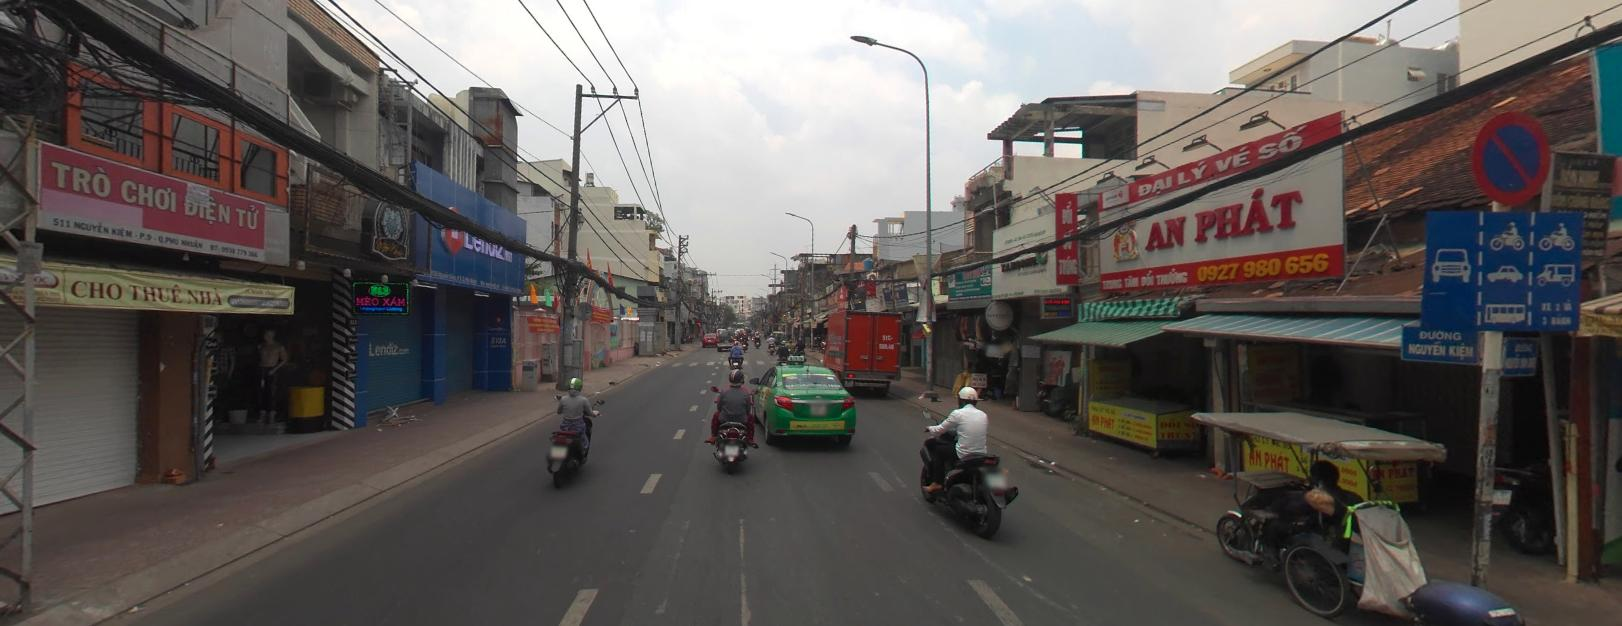Cam dung va do: (1471, 109, 1548, 203)
